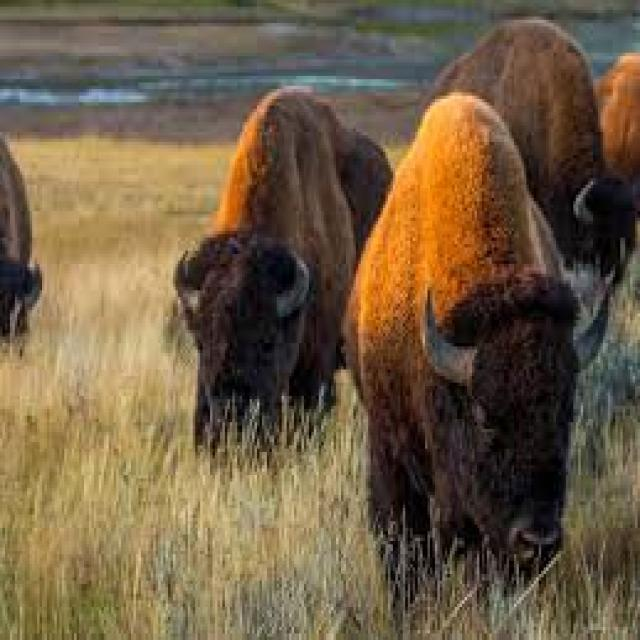bison: (346, 92, 605, 551), (173, 89, 390, 445), (423, 16, 638, 284)
